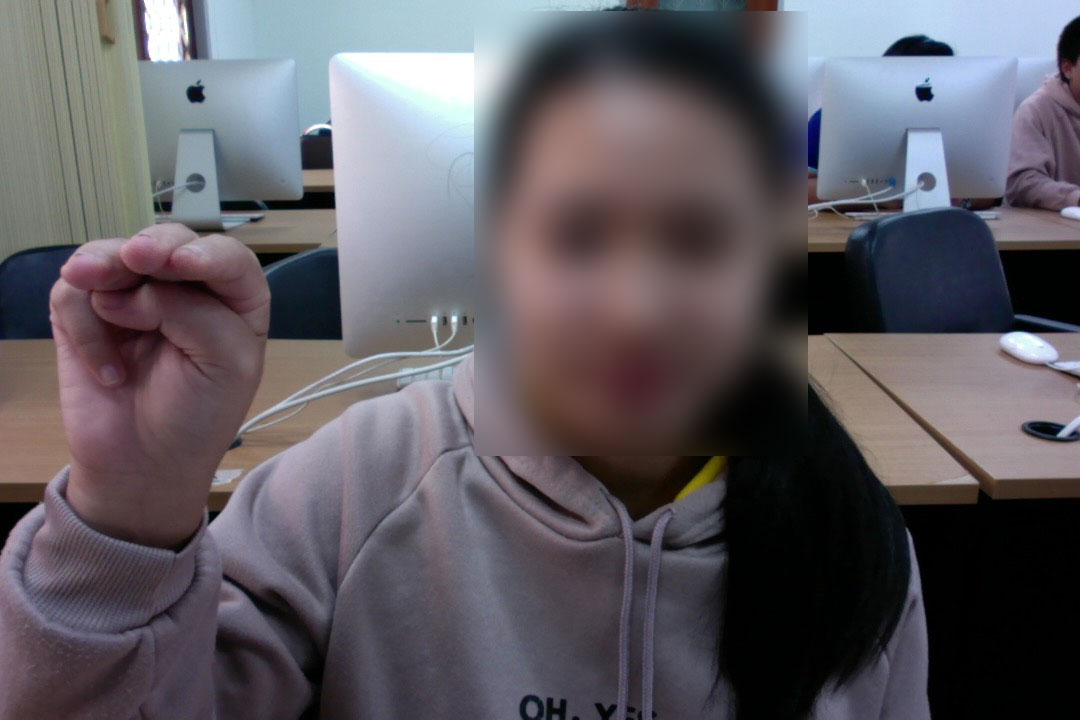mor: (40, 210, 279, 502)
